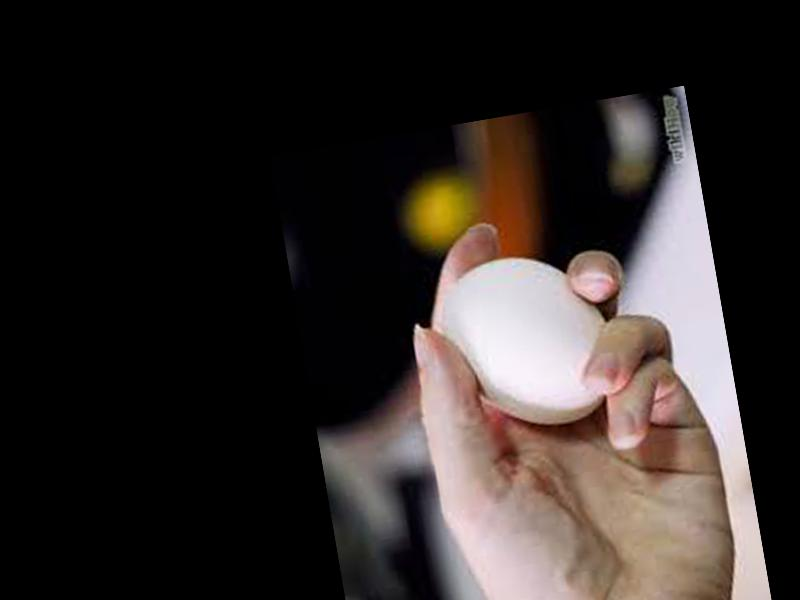Eggs: (433, 241, 618, 439)
